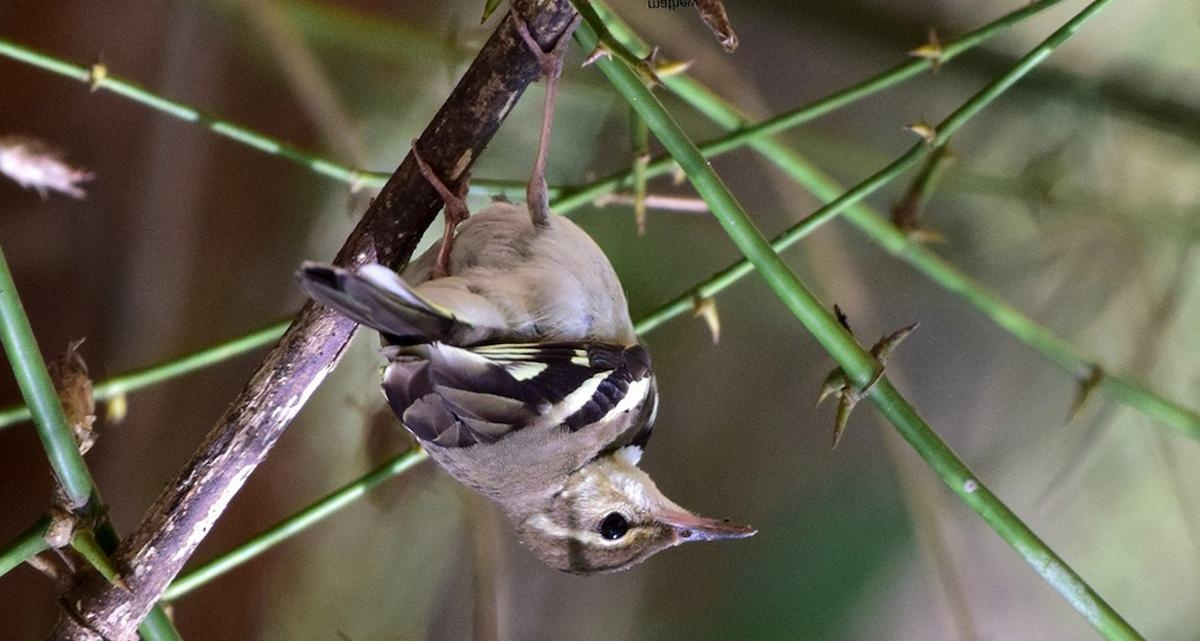wagtail: (377, 203, 733, 567)
